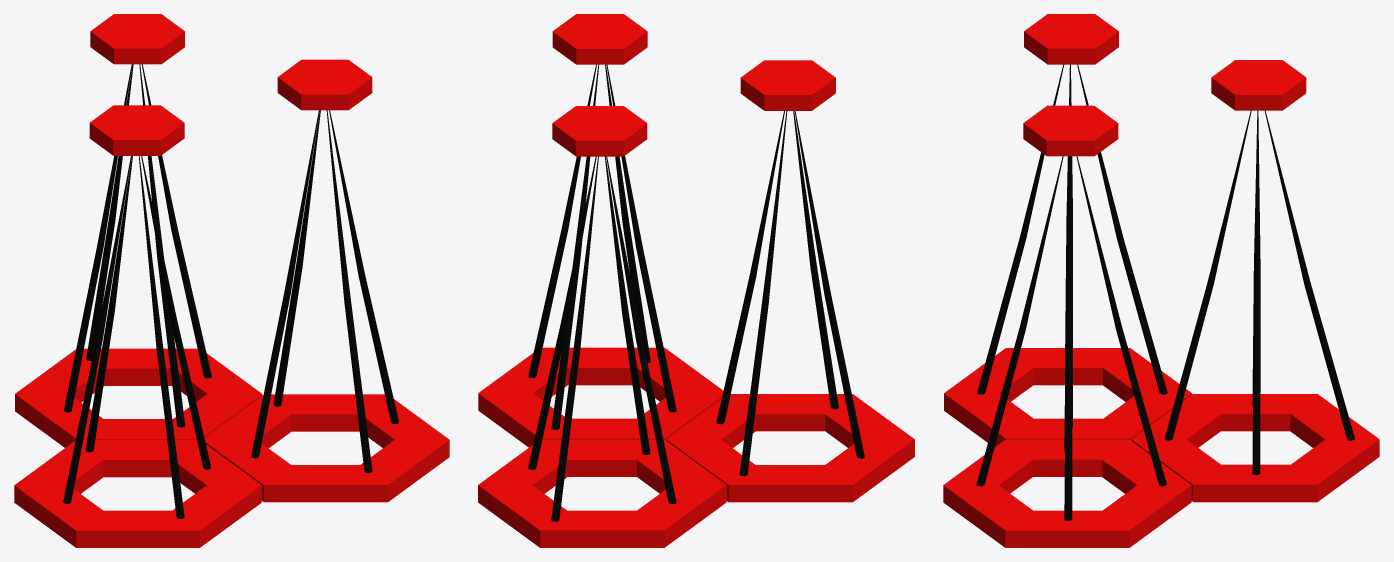
Rendered from HangingFuturelamp5.fbx.
The picture shows the model from 3 angles, left to right: view 1: azimuth 30°, elevation 25°; view 2: azimuth 150°, elevation 25°; view 3: azimuth 270°, elevation 25°; orthographic projection.
Visible parts, largest first — view 1: Cylinder.003; view 2: Cylinder.003; view 3: Cylinder.003.
Boxes of the visible parts, <box> form: Cylinder.003: <box>14,14,449,547</box>; Cylinder.003: <box>478,14,914,547</box>; Cylinder.003: <box>943,14,1379,547</box>.
Size of the model in its own units: 166 by 165 by 160.
